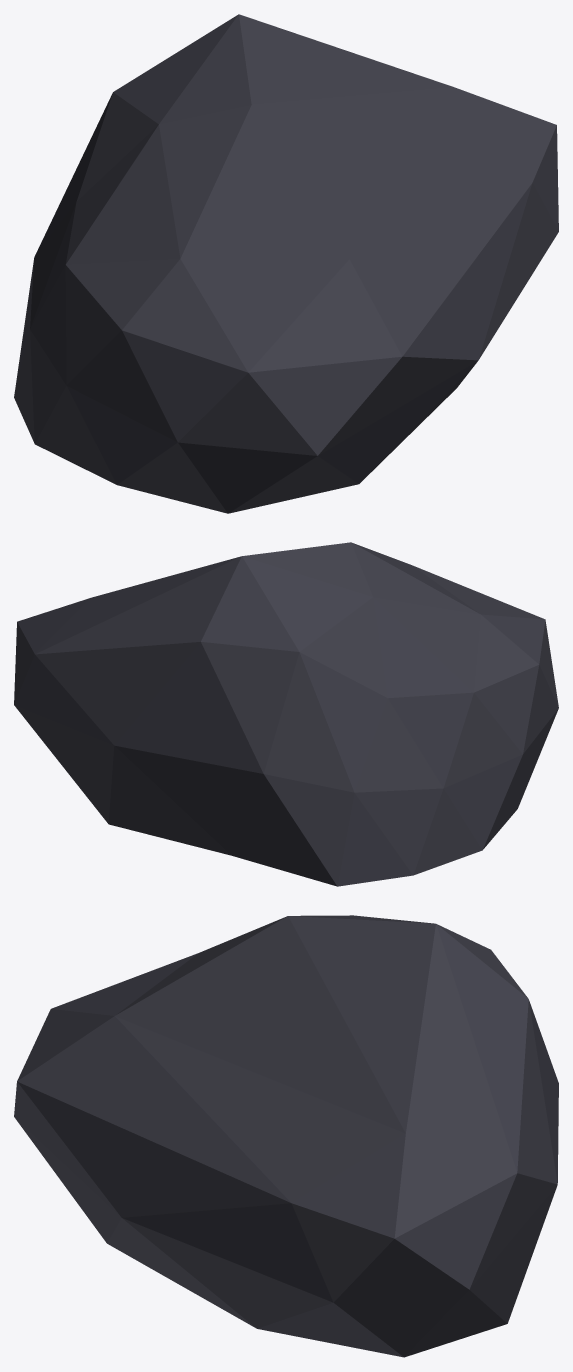
File: Stone_04.fbx
3 views of the same model, one above another, from view 1: azimuth 30°, elevation 25°; view 2: azimuth 150°, elevation 25°; view 3: azimuth 270°, elevation 25° (orthographic). The views are drawn at different scales.
Parts seen in each view (by area): view 1: Stone_04; view 2: Stone_04; view 3: Stone_04.
Boxes of the visible parts, left/top/right/bottom form: Stone_04: left=14, top=14, right=558, bottom=513; Stone_04: left=14, top=542, right=558, bottom=886; Stone_04: left=14, top=915, right=558, bottom=1357.
Bounding box in the file's own units: 18.38 × 10.74 × 15.5.
